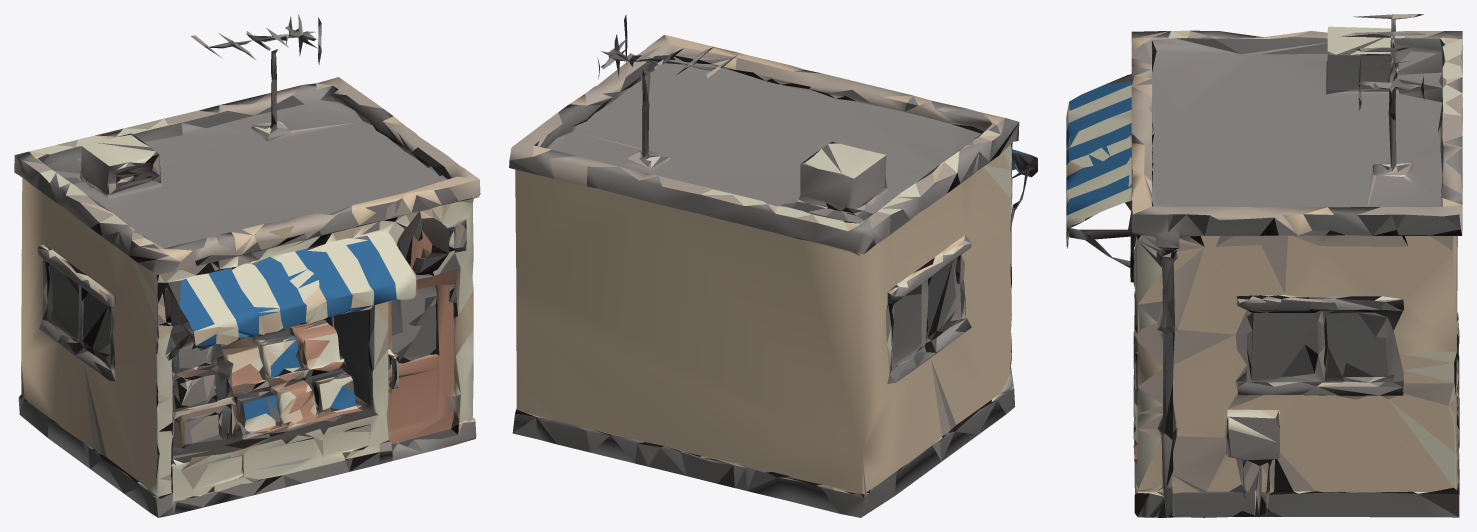
File: records-Blnkt-AR.glb
3 views of the same model, side by side, from view 1: azimuth 30°, elevation 25°; view 2: azimuth 150°, elevation 25°; view 3: azimuth 270°, elevation 25° (orthographic). The views are drawn at different scales.
Parts seen in each view (by area): view 1: tripo_node_6cc35039-7b64-4448-8093-40835c1da53e; view 2: tripo_node_6cc35039-7b64-4448-8093-40835c1da53e; view 3: tripo_node_6cc35039-7b64-4448-8093-40835c1da53e.
Part boxes in pixels (box(x1,y1,x2,y2)): tripo_node_6cc35039-7b64-4448-8093-40835c1da53e: box(14, 14, 480, 517); tripo_node_6cc35039-7b64-4448-8093-40835c1da53e: box(509, 15, 1037, 517); tripo_node_6cc35039-7b64-4448-8093-40835c1da53e: box(1066, 14, 1462, 517).
Size of the model in its own units: 0.9357 by 0.9782 by 0.8208.
